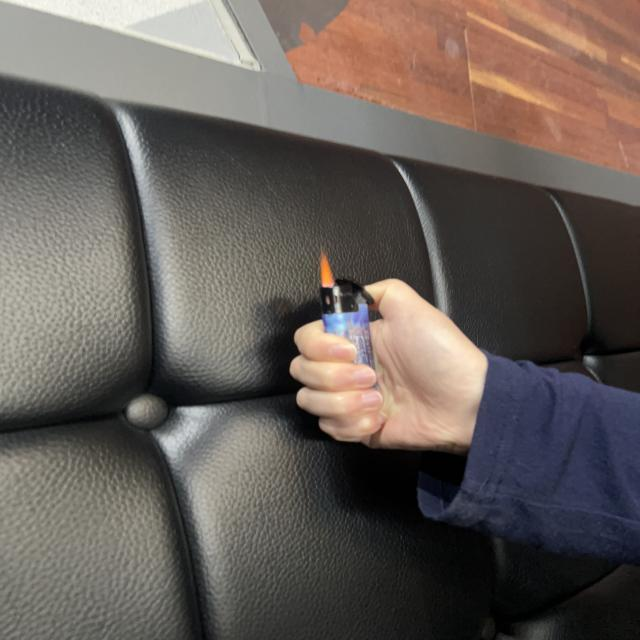fire: (319, 250, 336, 288)
